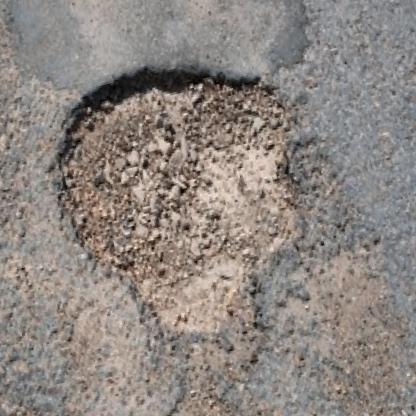pothole: (31, 35, 331, 363)
